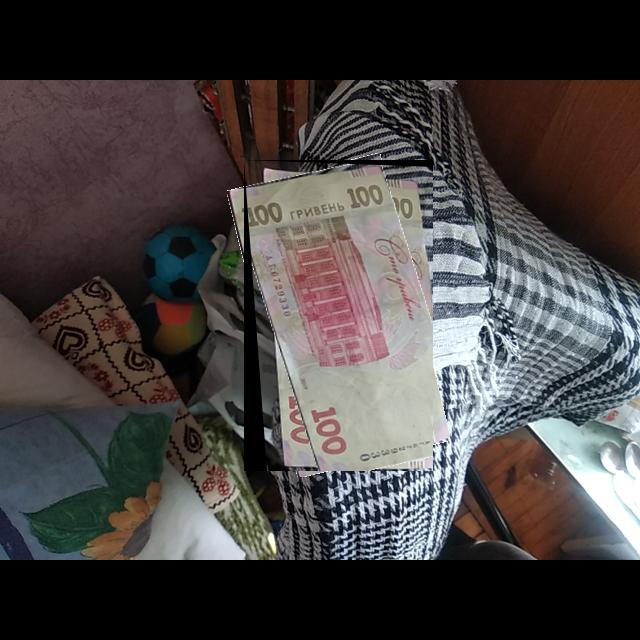100uah: (244, 160, 434, 472)
